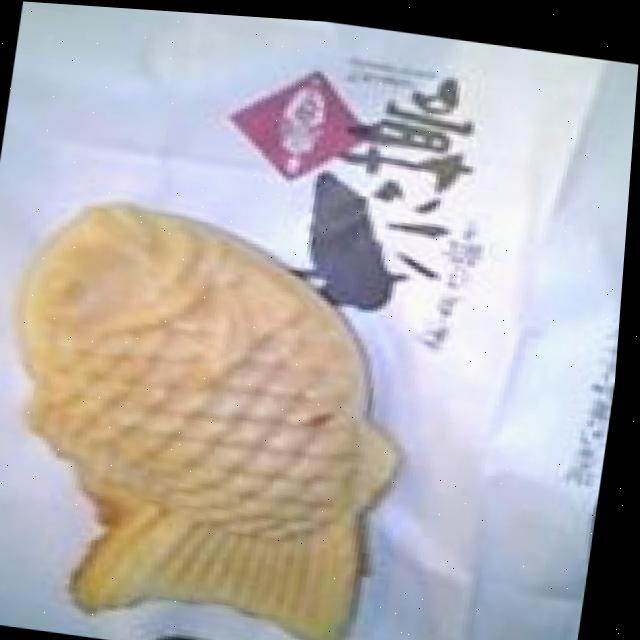熟制海鲜: (0, 183, 442, 640)
